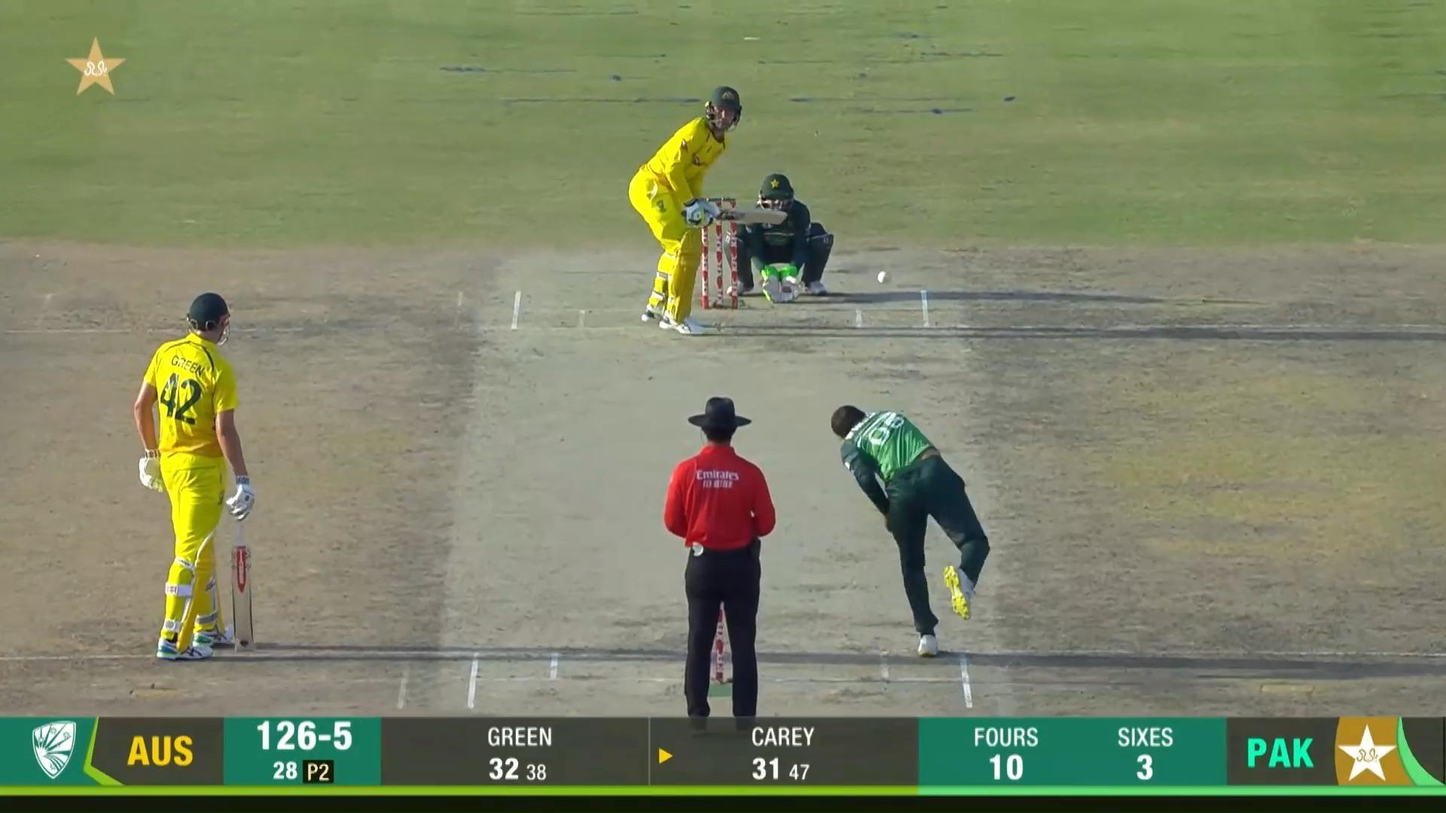BM 1: (627, 85, 790, 338)
BO: (830, 404, 991, 657)
